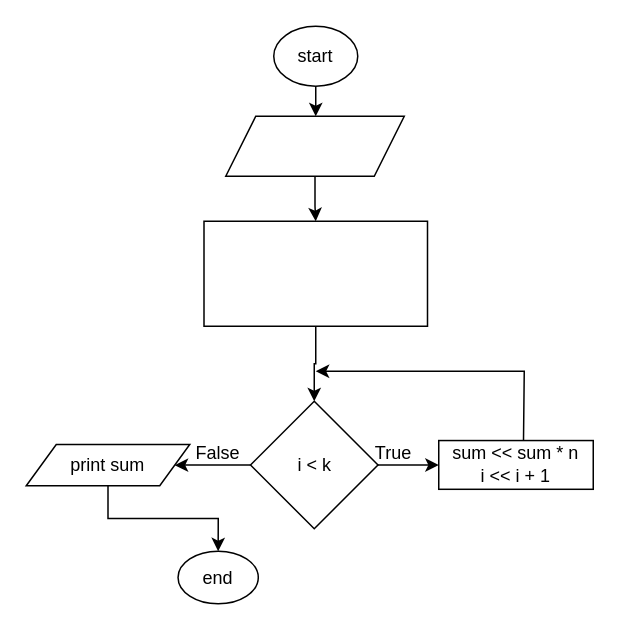
Some shapes in this 620 by 630 pixel diagram are drawn without their labels. The centre of each missing label's shape, as x and y in pixels:
n << n k << k i << 0 sum << 1: point (315, 273)
print "input n,k": point (314, 145)
